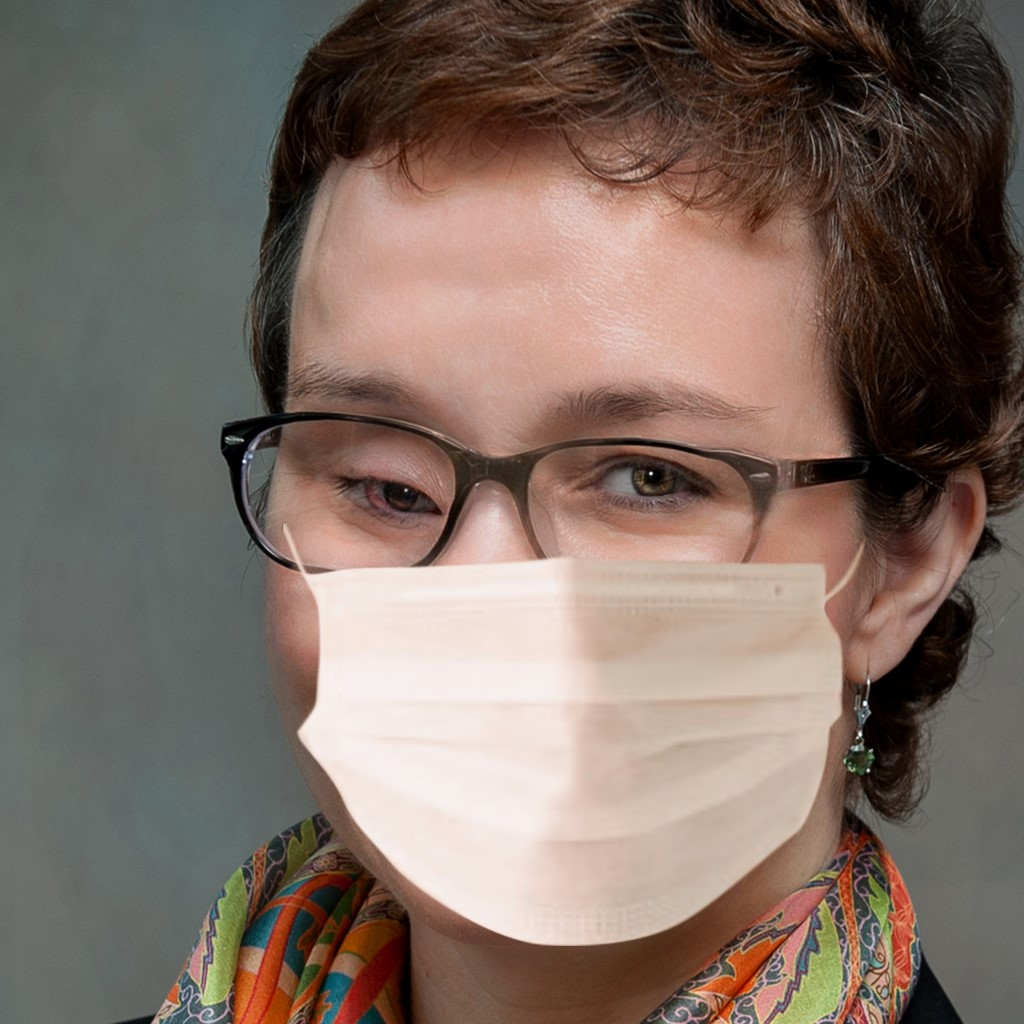con_mascara: (253, 62, 896, 947)
